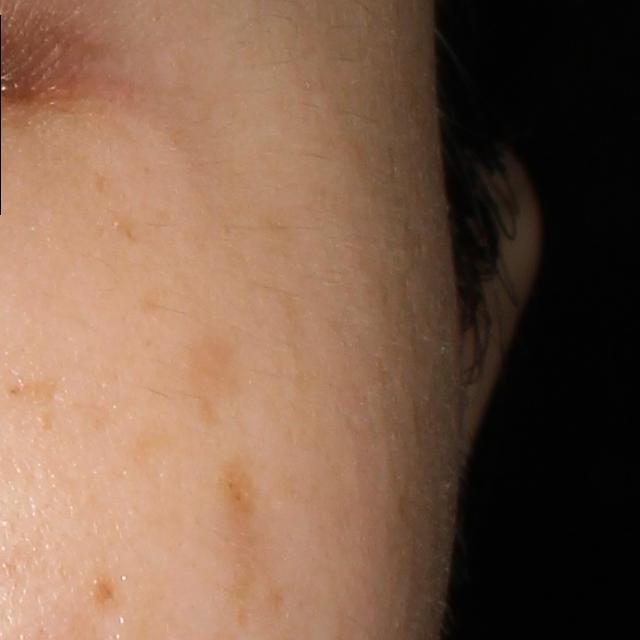melasma: (147, 187, 343, 400), (77, 393, 187, 496), (183, 313, 253, 446), (0, 366, 69, 442), (80, 203, 156, 258)
